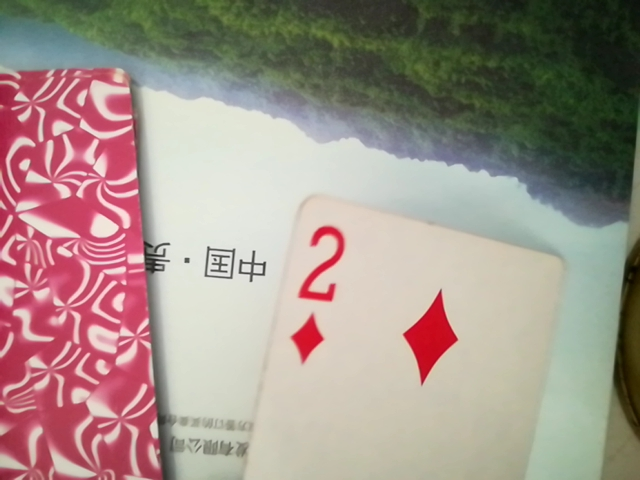fk 2: (218, 189, 576, 477)
